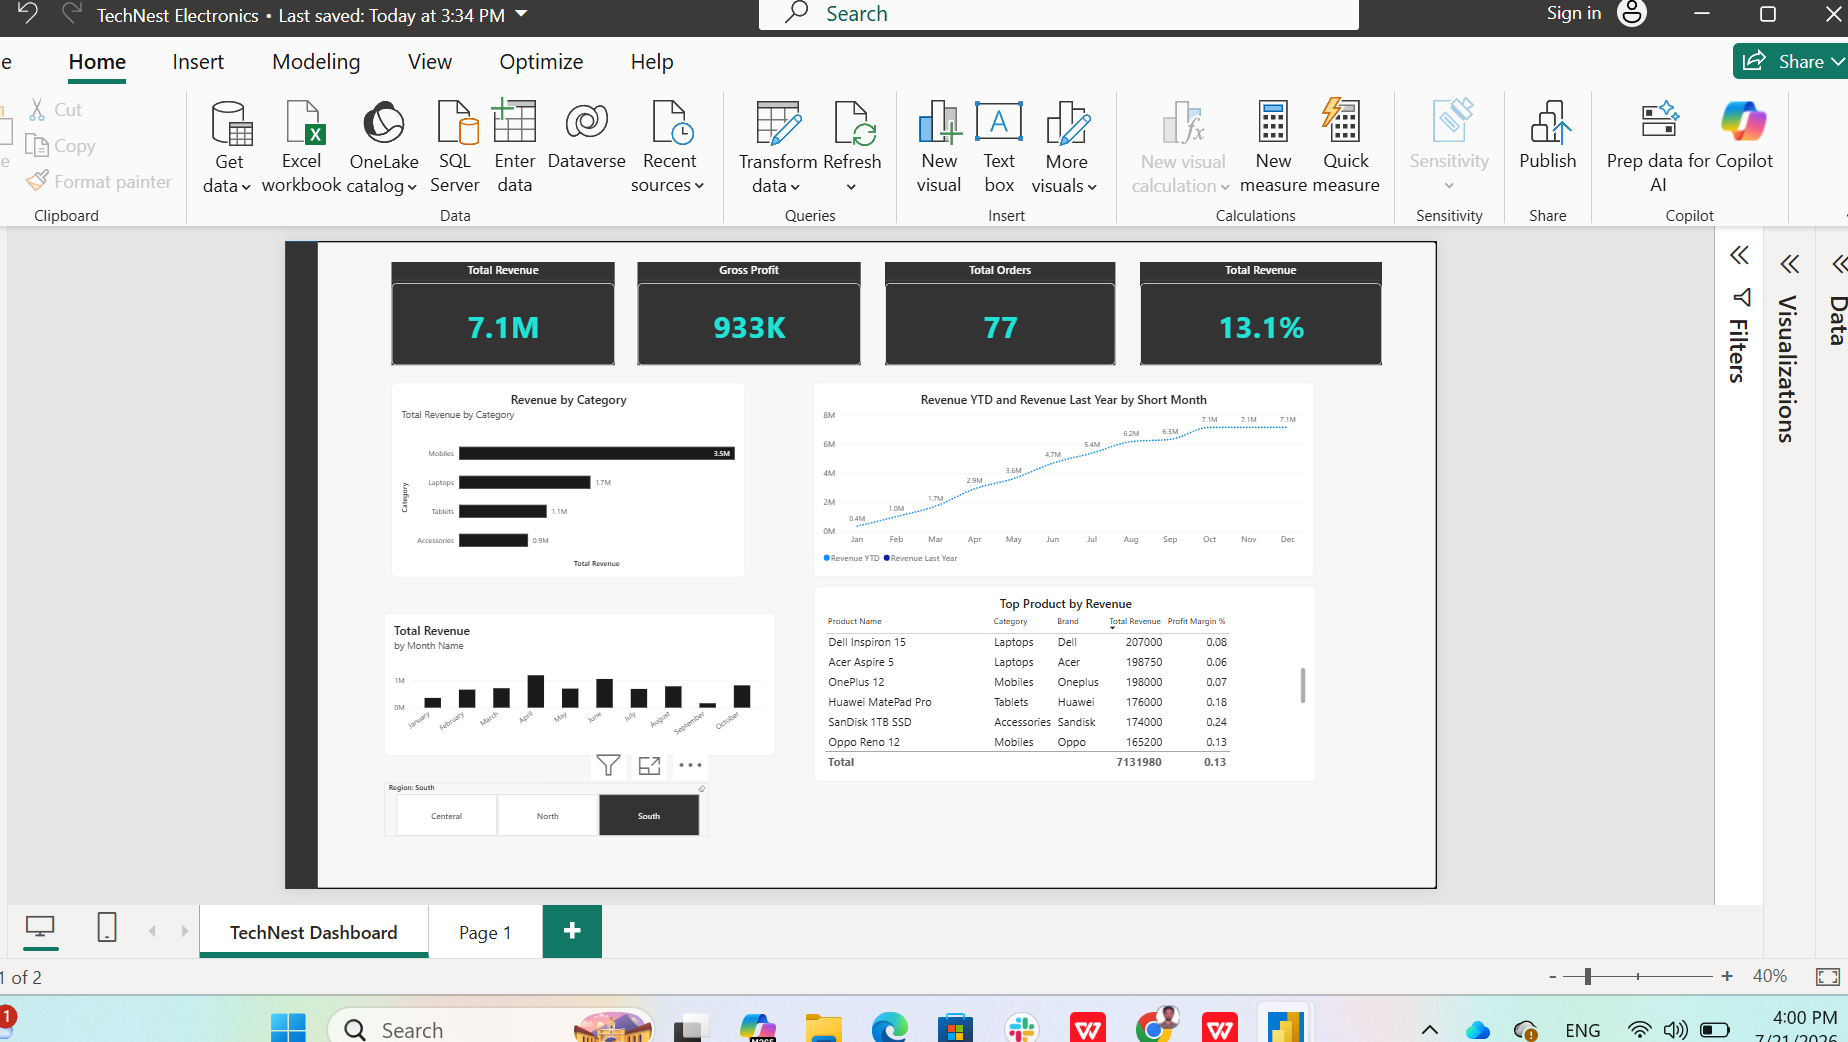

Layout of this report page (visuals, bound fields, positions):
{"tool":"powerbi","page":{"name":"TechNest Dashboard","canvas":[1920,1080],"ordinal":0},"visuals":[{"type":"shape","title":"Left Nav Background","box":[0,0,54.9,1080.8],"z":0},{"type":"clusteredBarChart","title":"Revenue by Category","fields":{"Category":["TechNest_Products.Category"],"Y":["_Measures.Total Revenue"]},"box":[176.6,236.2,589.3,326.9],"z":1001},{"type":"cardVisual","title":"Total Revenue","fields":{"Data":["_Measures.Total Revenue"]},"box":[176.6,35.8,372.2,171.8],"z":1002},{"type":"lineChart","fields":{"Category":["DateTable.Short Month"],"Y":["_Measures.Revenue YTD","_Measures.Revenue Last Year"]},"box":[880.4,236.2,835.1,324.5],"z":1006},{"type":"tableEx","title":"Top Product by Revenue","fields":{"Values":["TechNest_Products.Product Name","TechNest_Products.Category","TechNest_Products.Brand","_Measures.Total Revenue","_Measures.Profit Margin %"]},"box":[881.6,575.4,836.2,326],"z":1007},{"type":"clusteredColumnChart","fields":{"Category":["DateTable.Month Name"],"Y":["_Measures.Total Revenue"]},"box":[164.4,620.8,652,238.1],"z":1008},{"type":"slicer","fields":{"Values":["TechNest_Stores.Region"]},"box":[164.4,901.4,544.3,90.7],"z":1009},{"type":"cardVisual","title":"Gross Profit","fields":{"Data":["_Measures.Gross Profit"]},"box":[588.5,35.8,372.2,171.8],"z":1010},{"type":"cardVisual","title":"Total Orders","fields":{"Data":["_Measures.Total orders"]},"box":[1000.5,35.8,384.1,171.8],"z":1011},{"type":"cardVisual","title":"Total Revenue","fields":{"Data":["_Measures.Profit Margin %"]},"box":[1424.4,35.8,403.2,171.8],"z":1012}]}

Visuals, with their boxes on the page's 1920x1080 design canvas (x1, y1, x2, y2). These are canvas units, not pixel positions in the 1848x1042 screenshot, which may show the page scaled, cropped or inside an application window:
"Left Nav Background" shape: [x1=0, y1=0, x2=55, y2=1081]
"Revenue by Category" clusteredBarChart: [x1=177, y1=236, x2=766, y2=563]
"Total Revenue" cardVisual: [x1=177, y1=36, x2=549, y2=208]
lineChart - DateTable.Short Month x _Measures.Revenue YTD: [x1=880, y1=236, x2=1716, y2=561]
"Top Product by Revenue" tableEx: [x1=882, y1=575, x2=1718, y2=901]
clusteredColumnChart - DateTable.Month Name x _Measures.Total Revenue: [x1=164, y1=621, x2=816, y2=859]
slicer - TechNest_Stores.Region: [x1=164, y1=901, x2=709, y2=992]
"Gross Profit" cardVisual: [x1=588, y1=36, x2=961, y2=208]
"Total Orders" cardVisual: [x1=1000, y1=36, x2=1385, y2=208]
"Total Revenue" cardVisual: [x1=1424, y1=36, x2=1828, y2=208]
